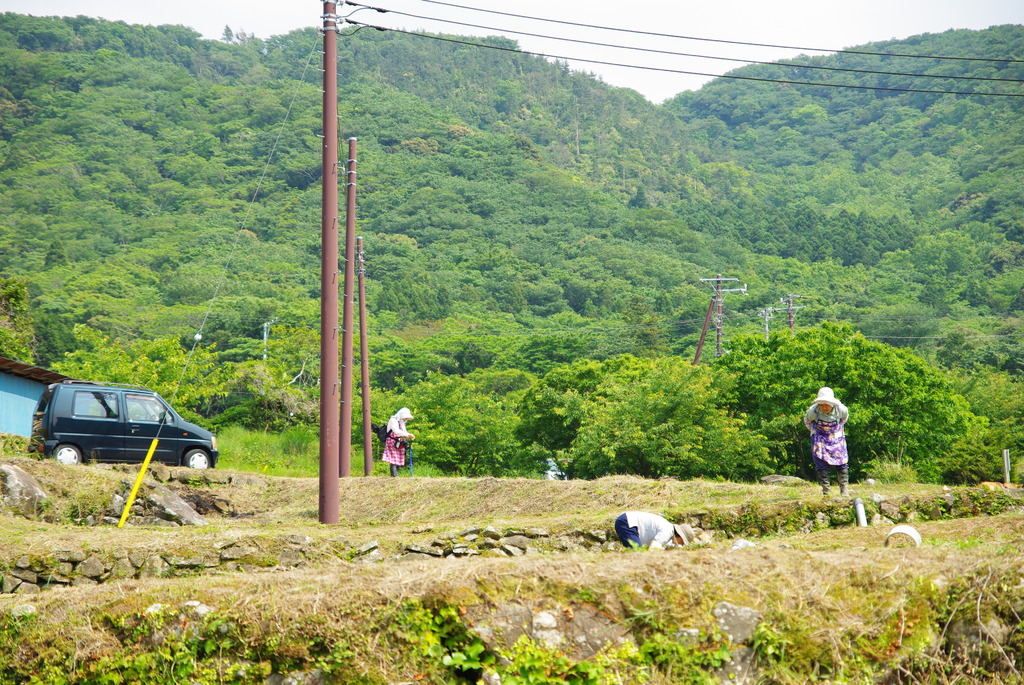Car: (28, 374, 208, 487)
